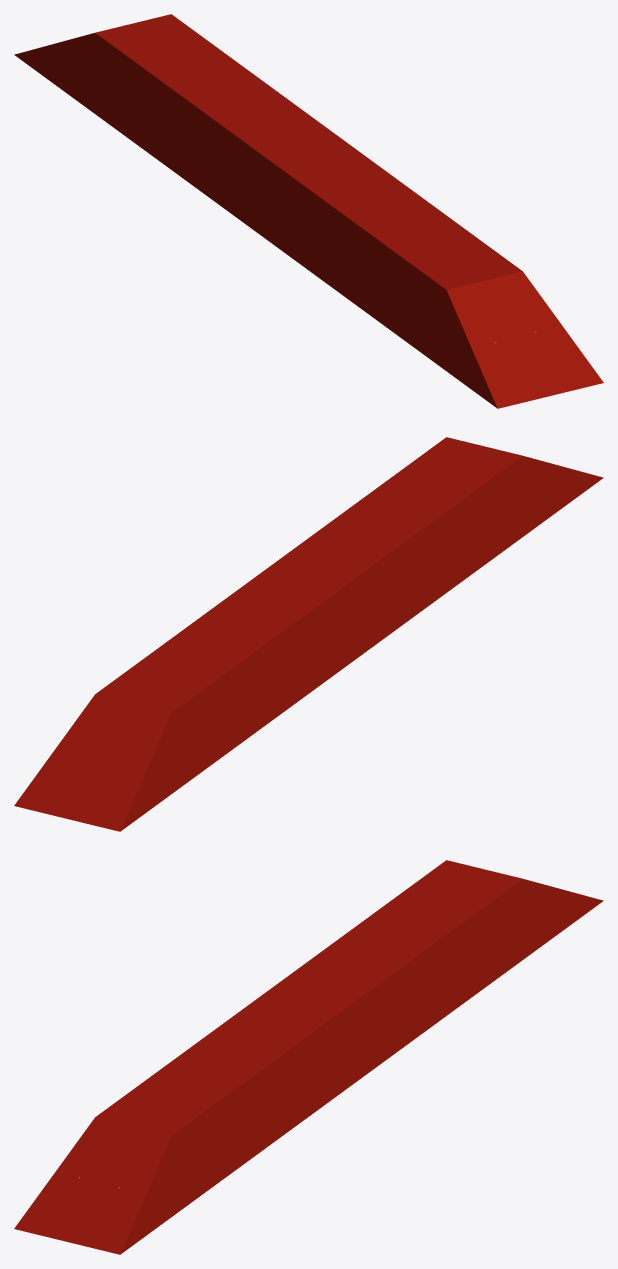
The model's file is Light.fbx.
3 views of the same model, one above another, from view 1: azimuth 30°, elevation 25°; view 2: azimuth 150°, elevation 25°; view 3: azimuth 330°, elevation 25° (orthographic).
Visible parts, largest first — view 1: Light; view 2: Light; view 3: Light.
Boxes of the visible parts, x1,y1,x2,y2 form: Light: (14,14,603,408); Light: (14,437,603,831); Light: (14,860,603,1254).
Size of the model in its own units: 11.09 by 6.66 by 87.48.
